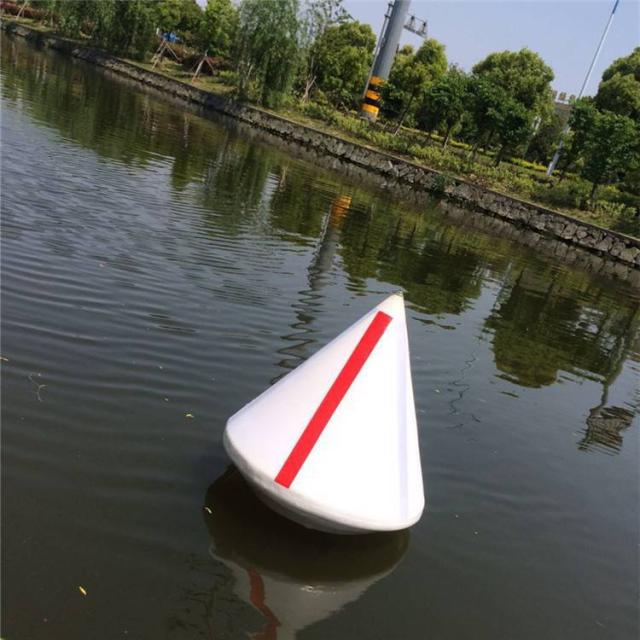buoy: (225, 285, 433, 541)
